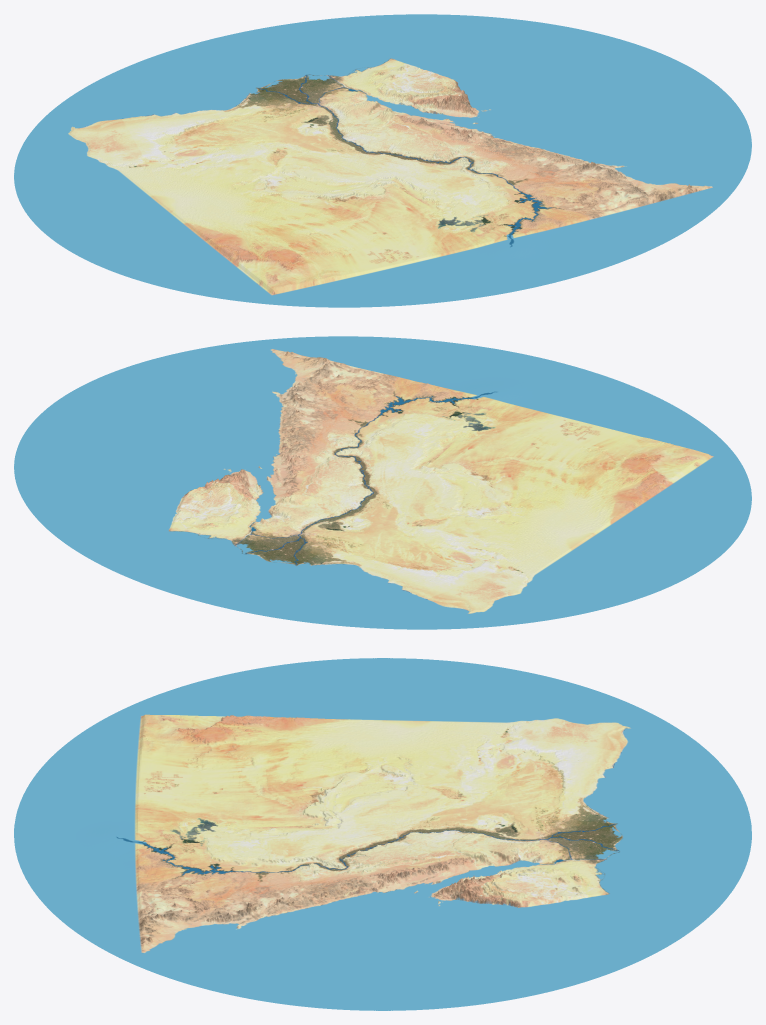
File: EGY-previa-terrain.glb
3 views of the same model, one above another, from view 1: azimuth 30°, elevation 25°; view 2: azimuth 150°, elevation 25°; view 3: azimuth 270°, elevation 25° (orthographic). The views are drawn at different scales.
Parts seen in each view (by area): view 1: Egito; view 2: Egito; view 3: Egito.
Boxes of the visible parts, <box> form: Egito: <box>14,14,751,307</box>; Egito: <box>14,336,751,629</box>; Egito: <box>14,658,751,1010</box>.
Bounding box in the file's own units: 2.65 × 0.0475 × 2.34.
Materials: 1 (1 with a texture image).
